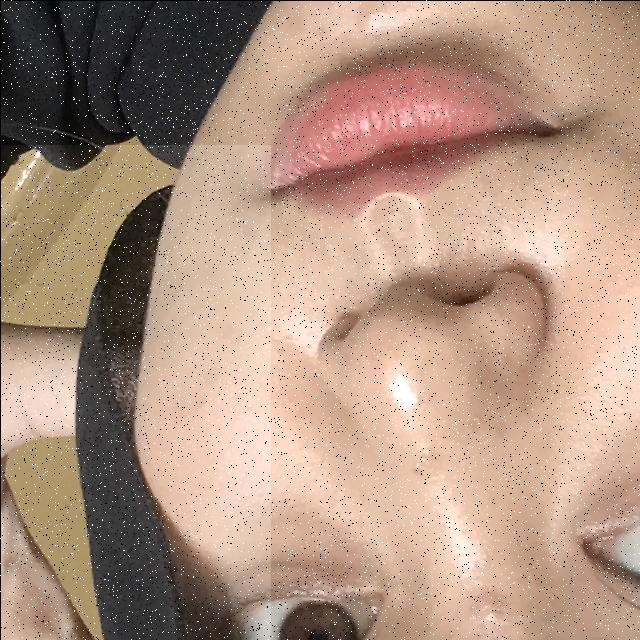mendengar: (0, 144, 270, 640)
